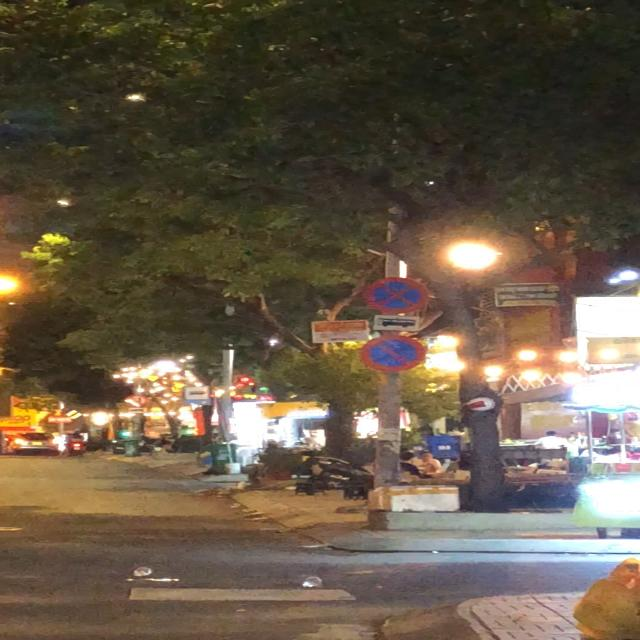Bien bao cam do xe: (363, 334, 420, 374)
Bien bao cam dung xe va do xe: (363, 274, 431, 315)
